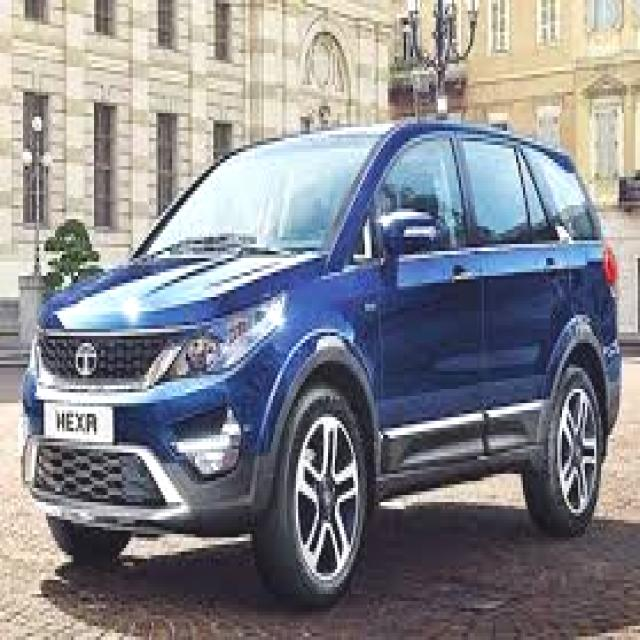SUV: (21, 115, 618, 605)
